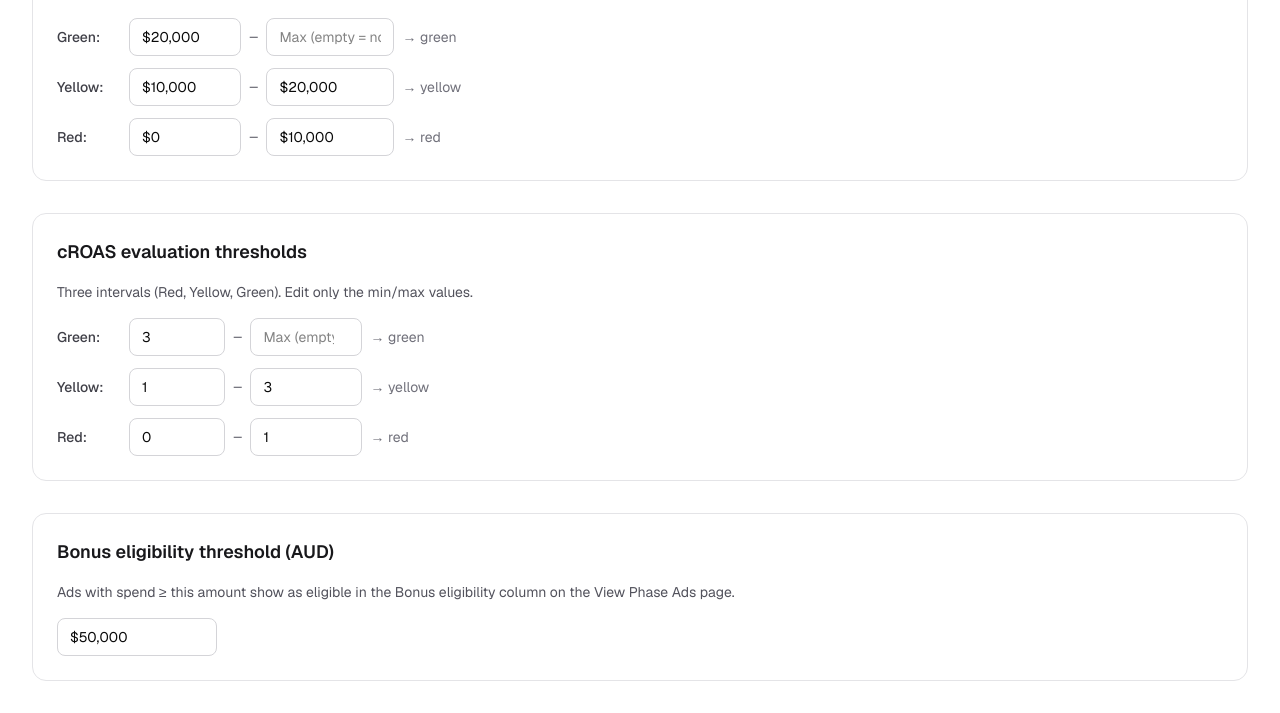
Test: Settings page › accepts changes to bonus eligibility threshold
(page scrolled)
Replace the text in the field named "Bonus eligibility threshold (AUD)" with "75000" at [137, 637], box [57,618,217,656]
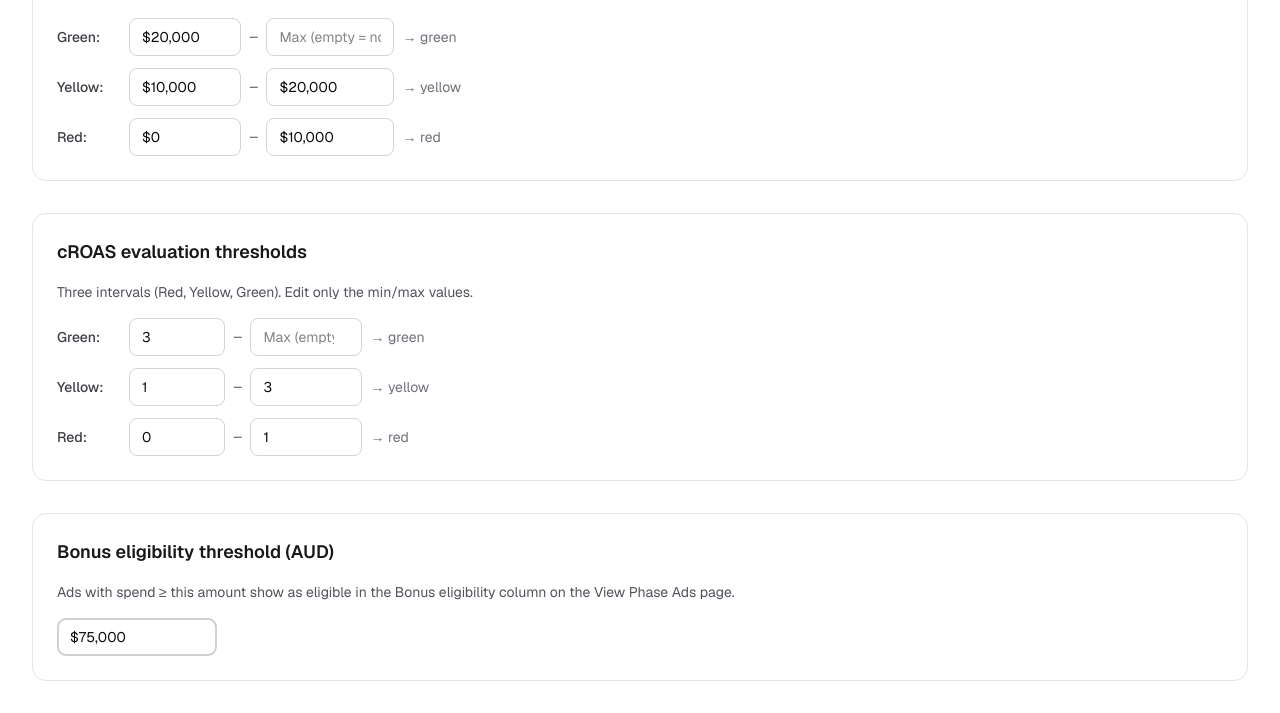
expect the field named "Bonus eligibility threshold (AUD)" holds "$75,000": met, box [57,618,217,656]
